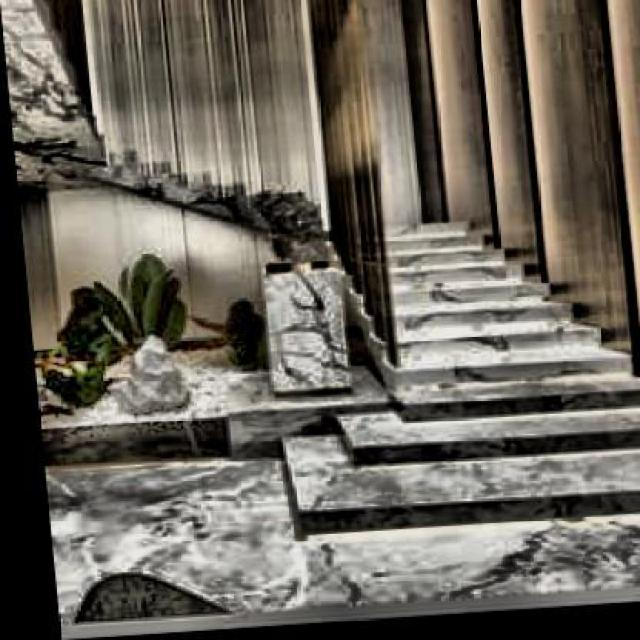stair: (328, 206, 638, 489)
